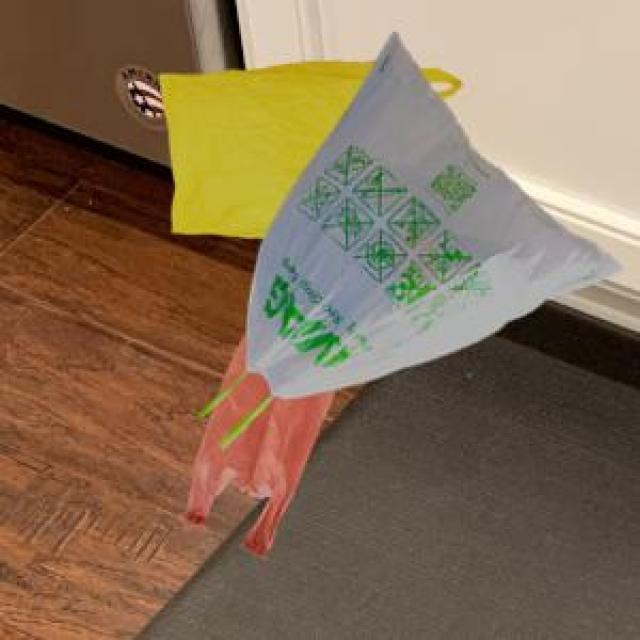Bolsa-de-nilon: (196, 35, 615, 449), (156, 58, 465, 239)
